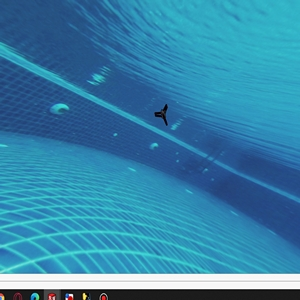submarine: (154, 105, 171, 122)
